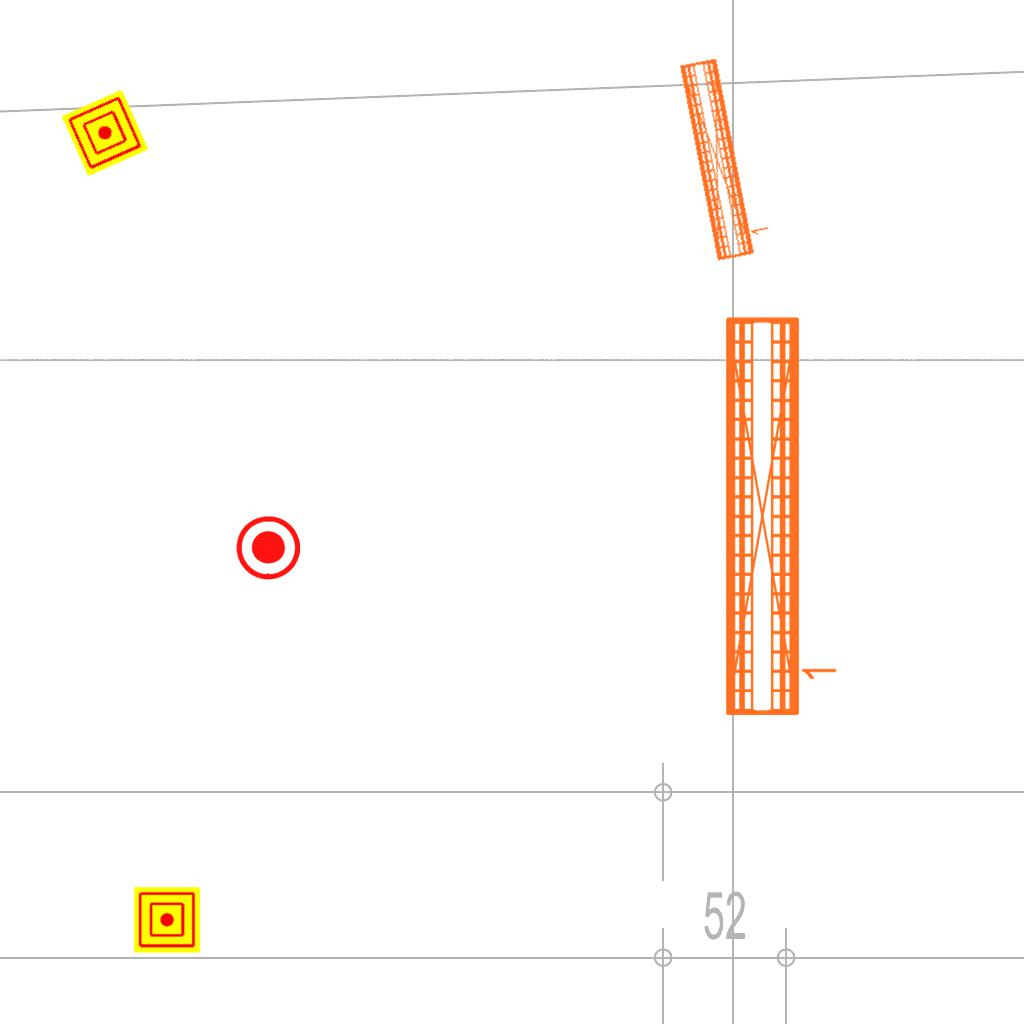Buero_Pendelleuchten_LED: (716, 309, 846, 722), (674, 50, 778, 265)
NAM-Nichtautomatischer_Melder: (61, 89, 149, 177), (134, 887, 200, 953)
Taster: (234, 514, 300, 580)
